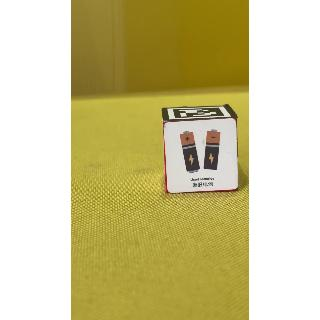Used_Battery: (164, 122, 243, 194)
